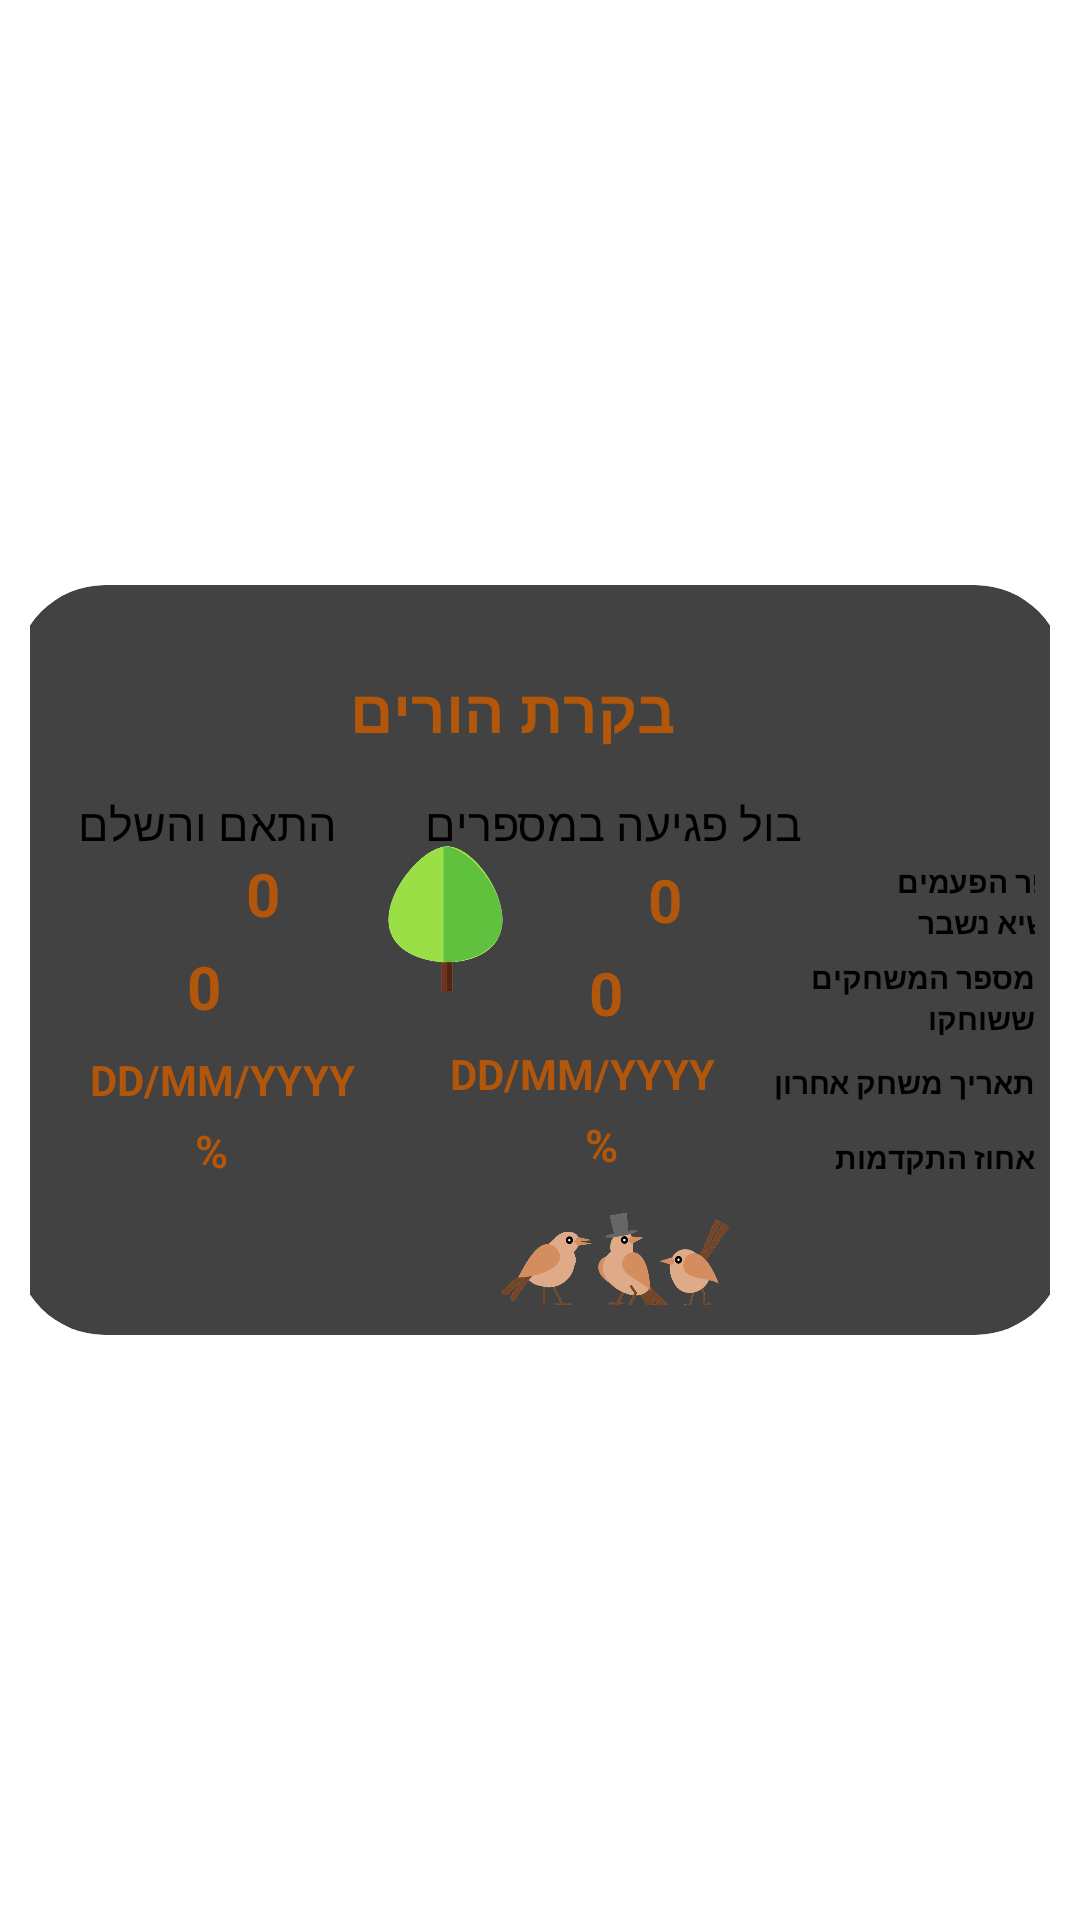

Where icons sit on this 1080×1920 app screen, as bbox=[x1, y1, x2, y2]:
birds: bbox=[501, 1213, 729, 1305]
tree: bbox=[388, 846, 503, 991]
